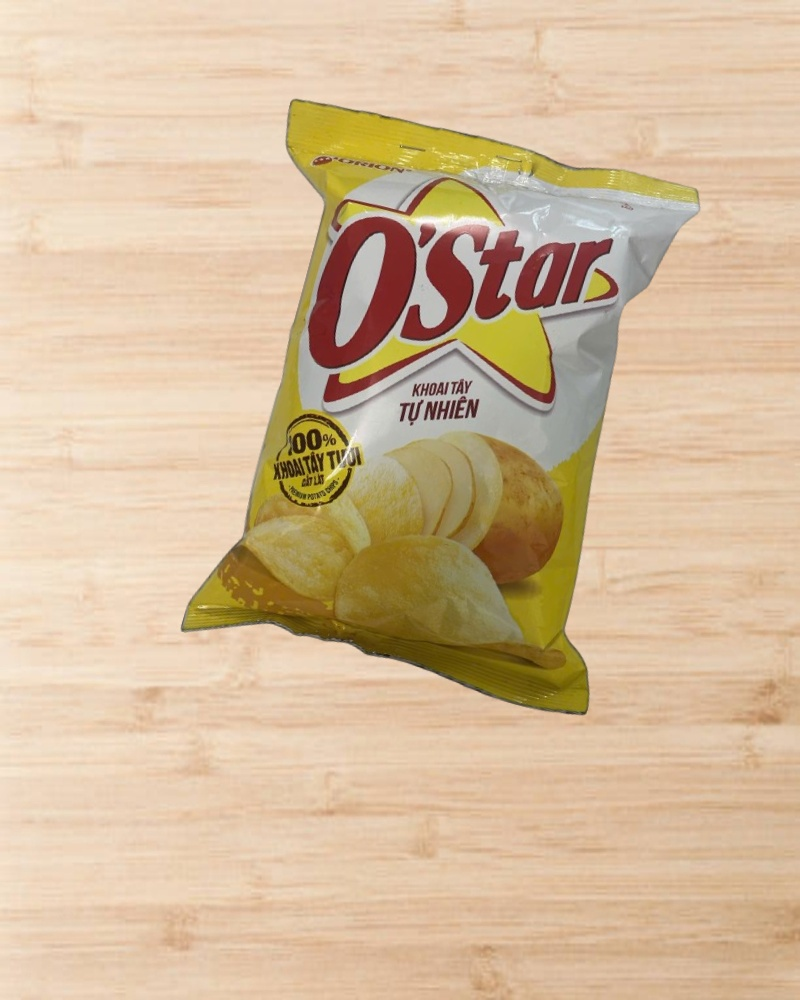O'star: (153, 82, 725, 738)
